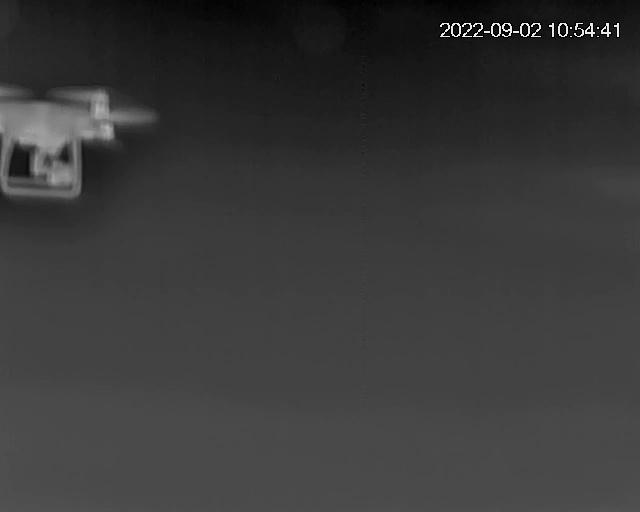DJI-Phantom: (0, 88, 144, 200)
